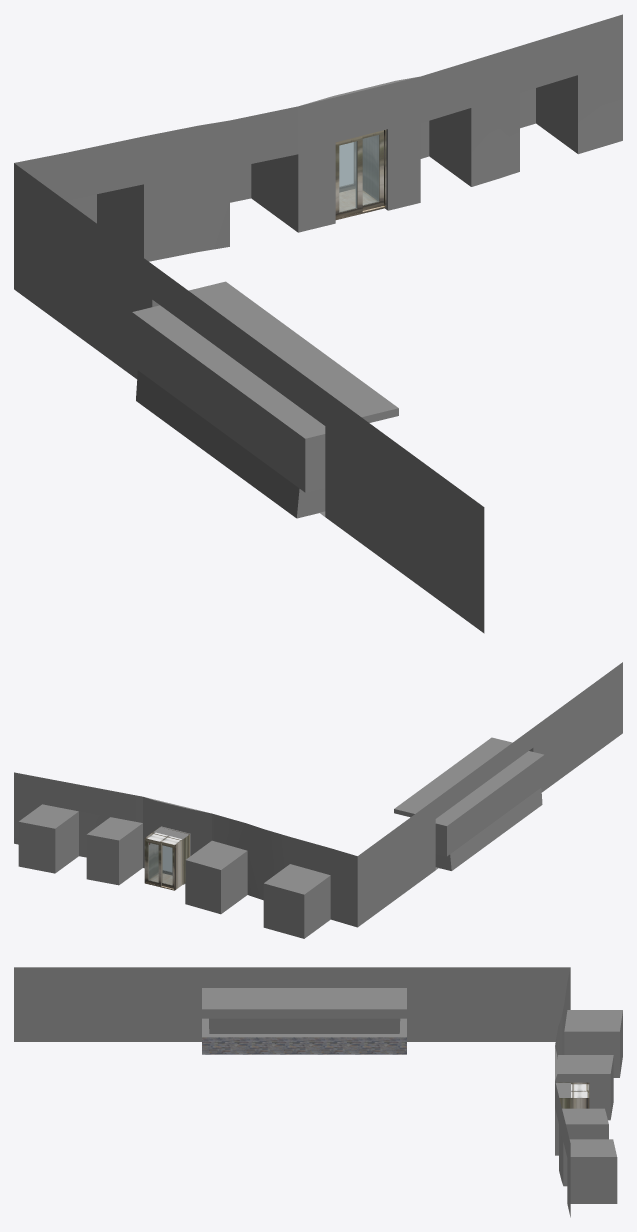
Rendered from AscensorNew.FBX.
3 renders of one model, top to bottom at view 1: azimuth 30°, elevation 25°; view 2: azimuth 150°, elevation 25°; view 3: azimuth 270°, elevation 25°, orthographic. The views are drawn at different scales.
Visible parts, largest first — view 1: Hotel, Ascensor_puerta01, Ascensor, Ascensor_puerta02; view 2: Hotel, Ascensor, Ascensor_puerta003, Ascensor_puerta004; view 3: Hotel, Ascensor.
Boxes of the visible parts, left/top/right/bottom form: Hotel: left=14, top=14, right=622, bottom=633; Ascensor_puerta01: left=335, top=135, right=362, bottom=218; Ascensor: left=335, top=129, right=386, bottom=219; Ascensor_puerta02: left=356, top=130, right=383, bottom=210; Hotel: left=14, top=662, right=622, bottom=938; Ascensor: left=144, top=827, right=189, bottom=890; Ascensor_puerta003: left=145, top=839, right=161, bottom=886; Ascensor_puerta004: left=160, top=841, right=174, bottom=888; Hotel: left=14, top=967, right=622, bottom=1217; Ascensor: left=557, top=1082, right=589, bottom=1108.
Size of the model in its own units: 1360 by 261 by 1920.
